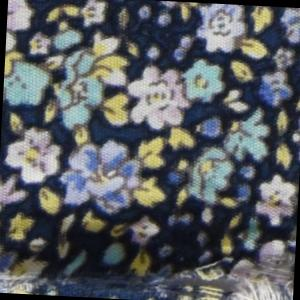Damage: (1, 210, 297, 300)
